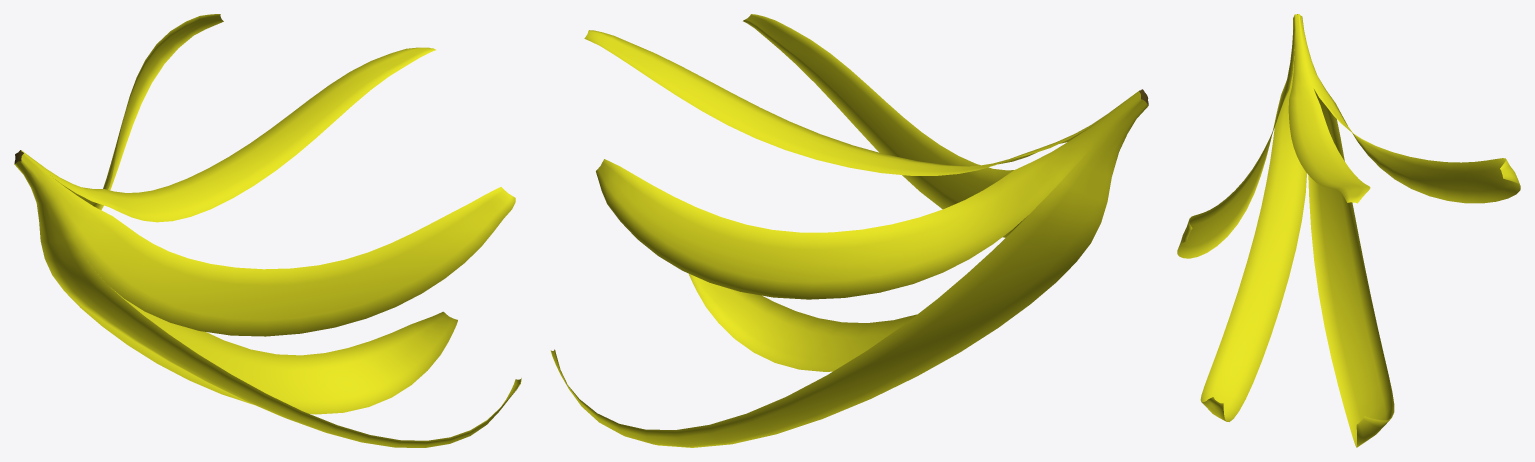
Rendered from BananaPeel.fbx.
The picture shows the model from 3 angles, left to right: view 1: azimuth 30°, elevation 25°; view 2: azimuth 150°, elevation 25°; view 3: azimuth 270°, elevation 25°; orthographic projection. The views are drawn at different scales.
Parts seen in each view (by area): view 1: Cylinder; view 2: Cylinder; view 3: Cylinder.
Part boxes in pixels (x1,y1,x2,y2): Cylinder: (14,14,521,447); Cylinder: (550,14,1148,447); Cylinder: (1177,14,1520,447).
Bounding box in the file's own units: 476 × 355 × 391.
